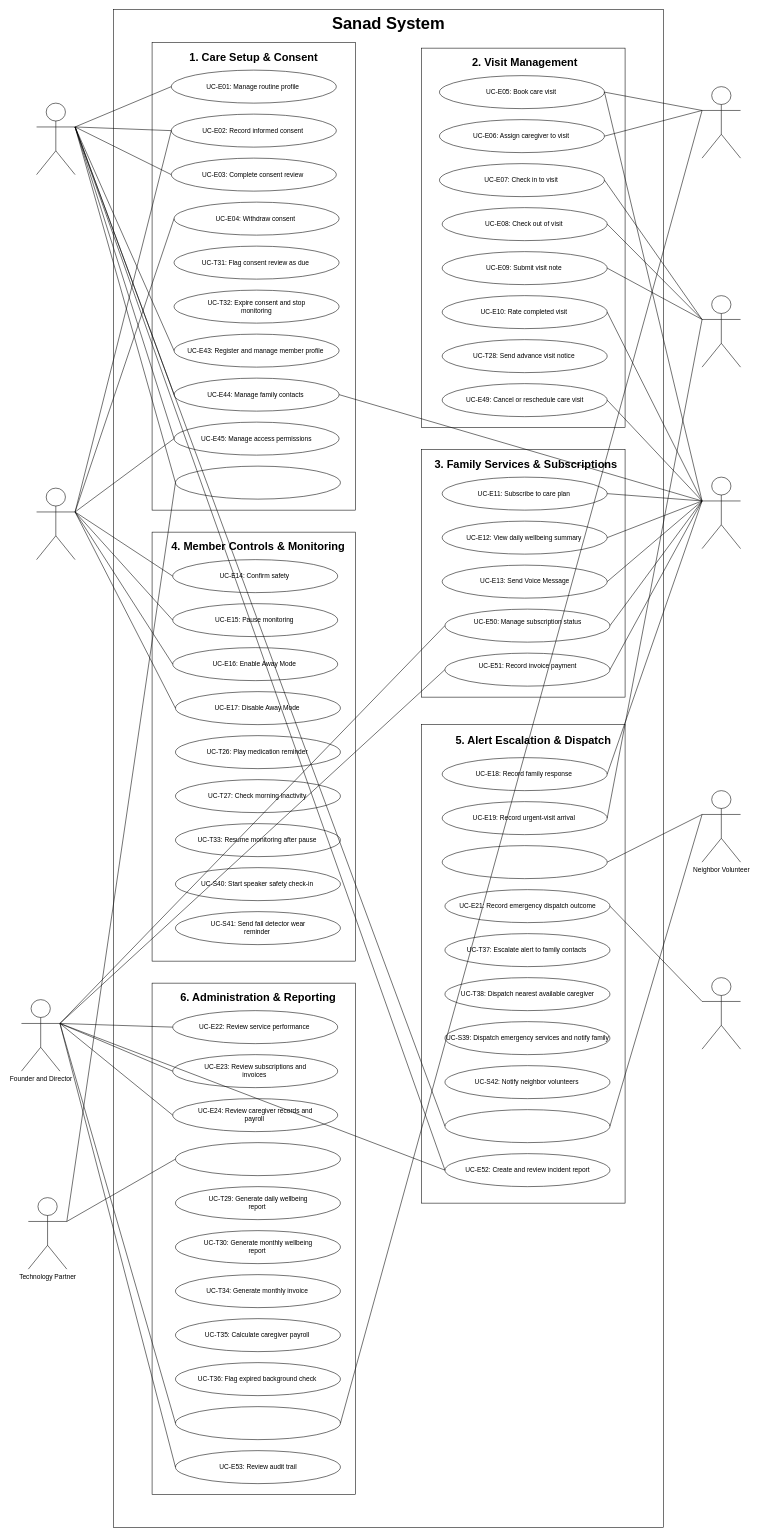
The diagram is 769 pixels wide and 1537 high, and some of its shapes have lost their labels. Here are the shapes that lost their labels. From the top down, the centre of each, then its label:
At point (55, 139): "Care Coordinator".
At point (721, 122): "Caregiver Team Lead".
At point (721, 331): "Field Caregiver".
At point (257, 482): "UC-E46: Install and manage home devices".
At point (55, 524): "Elderly Member".
At point (721, 513): "Family Contact".
At point (524, 862): "UC-E20: Respond to non-urgent alert".
At point (721, 1013): "Emergency Services (123)".
At point (527, 1126): "UC-E48: Register and verify neighbor volunteer".
At point (257, 1159): "UC-E25: Review device and sensor status".
At point (257, 1423): "UC-E47: Manage caregiver profile".
